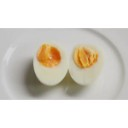begg: (34, 43, 69, 84), (72, 44, 103, 83)
